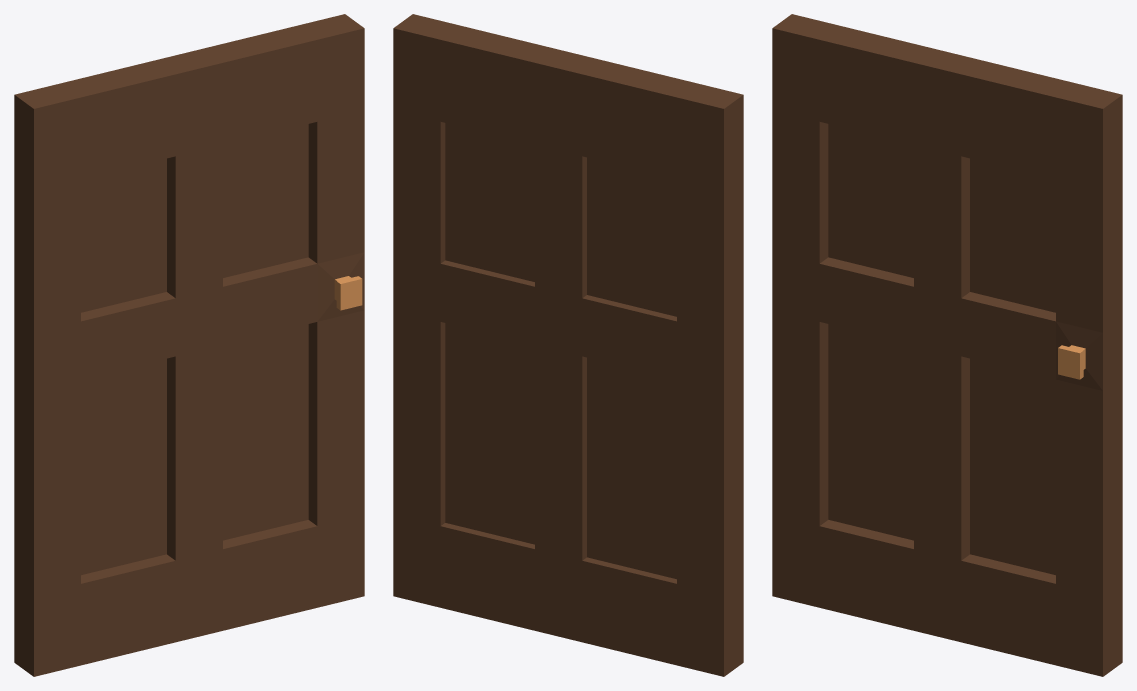
File: pintu.fbx
3 renders of one model, left to right at view 1: azimuth 30°, elevation 25°; view 2: azimuth 150°, elevation 25°; view 3: azimuth 330°, elevation 25°, orthographic.
Parts seen in each view (by area): view 1: Cube.004; view 2: Cube.004; view 3: Cube.004.
Boxes of the visible parts, <box> form: Cube.004: <box>14,14,364,676</box>; Cube.004: <box>393,14,743,676</box>; Cube.004: <box>772,14,1122,676</box>.
Size of the model in its own units: 188 by 308 by 29.47.
